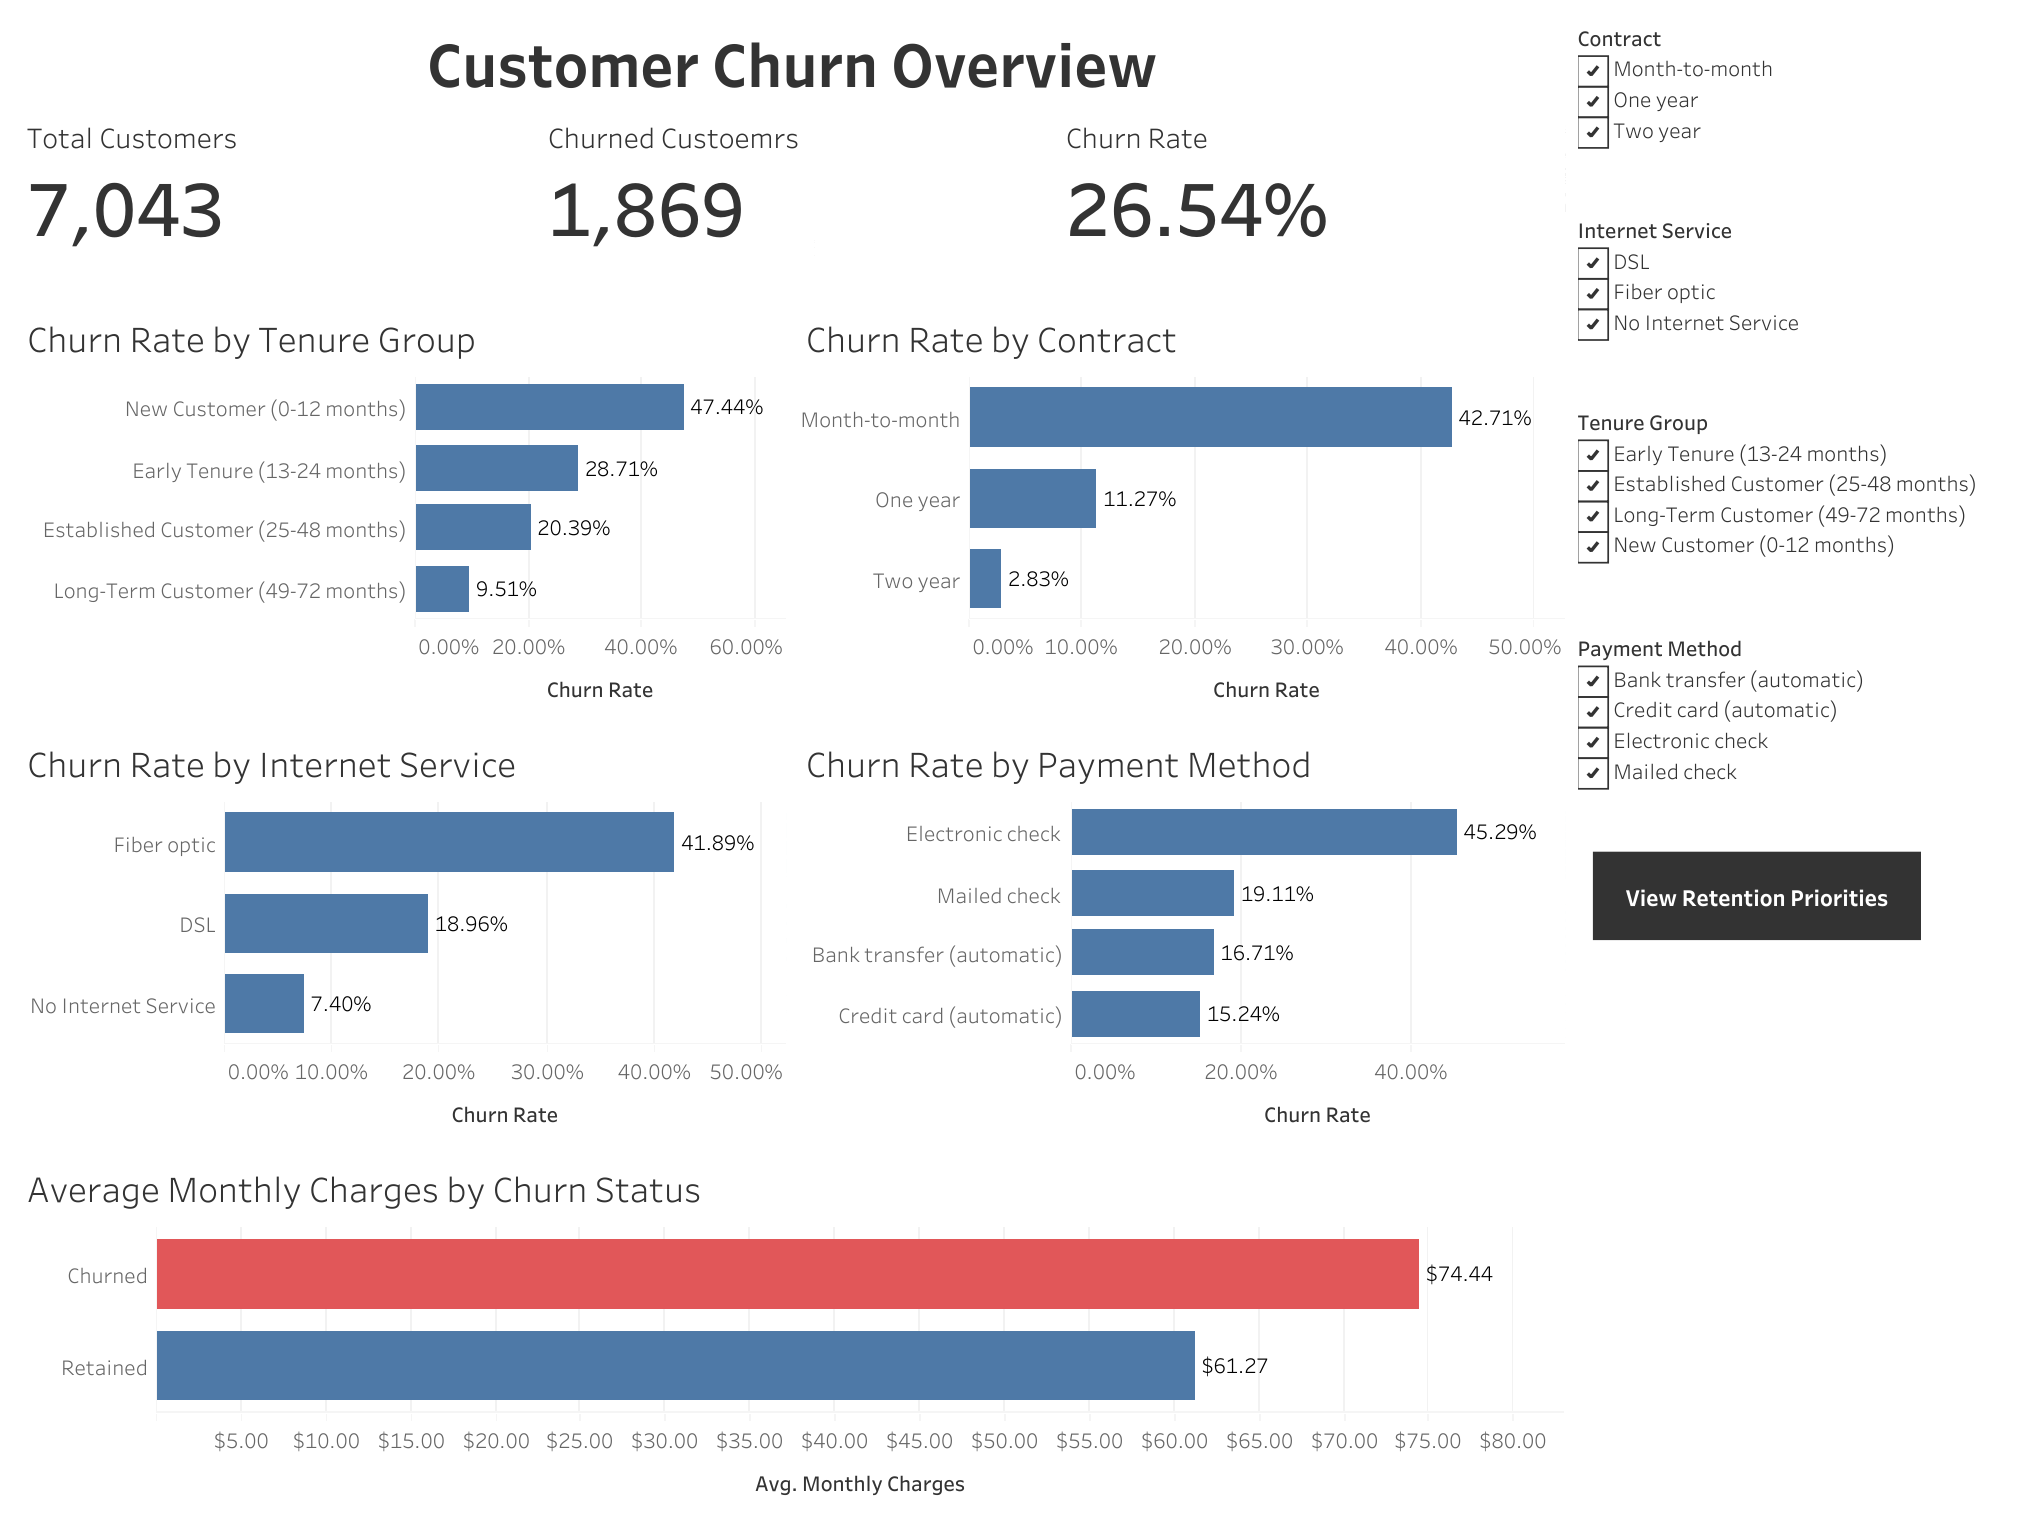

Layout of this report page (visuals, bound fields, positions):
{"tool":"tableau","page":{"name":"Churn Overview","canvas":[1200,900],"ordinal":0},"visuals":[{"type":"title","box":[8,8,916,56]},{"type":"filter","title":"Churn Rate by Contract","param":"[federated.1nt3ium1bt8bhe147y8vz0cpskuv].[none:Contract:nk]","box":[924,8,268,108]},{"type":"worksheet","title":"KPI -Total Customers","mark":"Automatic","box":[8,64,306,110]},{"type":"worksheet","title":"KPI -Churned Customers","mark":"Automatic","box":[314,64,305,110]},{"type":"worksheet","title":"KPI -Churn Rate","mark":"Automatic","box":[619,64,305,110]},{"type":"filter","title":"Churn Rate by Internet Service","param":"[federated.1nt3ium1bt8bhe147y8vz0cpskuv].[none:InternetService:nk]","box":[924,116,268,108]},{"type":"worksheet","title":"Churn Rate by Tenure Group","mark":"Bar","rows":["TenureGroup"],"cols":["Calculation_4287596579495938"],"box":[8,174,458,250]},{"type":"worksheet","title":"Churn Rate by Contract","mark":"Automatic","rows":["Contract"],"cols":["Calculation_4287596579495938"],"box":[466,174,458,250]},{"type":"filter","title":"Churn Rate by Tenure Group","param":"[federated.1nt3ium1bt8bhe147y8vz0cpskuv].[none:TenureGroup:nk]","box":[924,224,268,127]},{"type":"filter","title":"Churn Rate by Payment Method","param":"[federated.1nt3ium1bt8bhe147y8vz0cpskuv].[none:PaymentMethod:nk]","box":[924,351,268,127]},{"type":"worksheet","title":"Churn Rate by Internet Service","mark":"Automatic","rows":["InternetService"],"cols":["Calculation_4287596579495938"],"box":[8,424,458,250]},{"type":"worksheet","title":"Churn Rate by Payment Method","mark":"Automatic","rows":["PaymentMethod"],"cols":["Calculation_4287596579495938"],"box":[466,424,458,250]},{"type":"dashboard-object","box":[937,501,193,52]},{"type":"worksheet","title":"Average Monthly Charges by Churn Status","mark":"Automatic","rows":["Churn"],"cols":["MonthlyCharges"],"box":[8,674,916,218]}]}

Visuals, with their boxes in screenshot pixels (x1, y1, x2, y2), scaled from the page's 1200x900 canvas onto the 2038x1528 screenshot:
title: <region>14, 14, 1569, 109</region>
"Churn Rate by Contract" filter: <region>1569, 14, 2024, 197</region>
"KPI -Total Customers" worksheet: <region>14, 109, 533, 295</region>
"KPI -Churned Customers" worksheet: <region>533, 109, 1051, 295</region>
"KPI -Churn Rate" worksheet: <region>1051, 109, 1569, 295</region>
"Churn Rate by Internet Service" filter: <region>1569, 197, 2024, 380</region>
"Churn Rate by Tenure Group" worksheet (Bar marks): <region>14, 295, 791, 720</region>
"Churn Rate by Contract" worksheet: <region>791, 295, 1569, 720</region>
"Churn Rate by Tenure Group" filter: <region>1569, 380, 2024, 596</region>
"Churn Rate by Payment Method" filter: <region>1569, 596, 2024, 812</region>
"Churn Rate by Internet Service" worksheet: <region>14, 720, 791, 1144</region>
"Churn Rate by Payment Method" worksheet: <region>791, 720, 1569, 1144</region>
dashboard-object: <region>1591, 851, 1919, 939</region>
"Average Monthly Charges by Churn Status" worksheet: <region>14, 1144, 1569, 1514</region>
